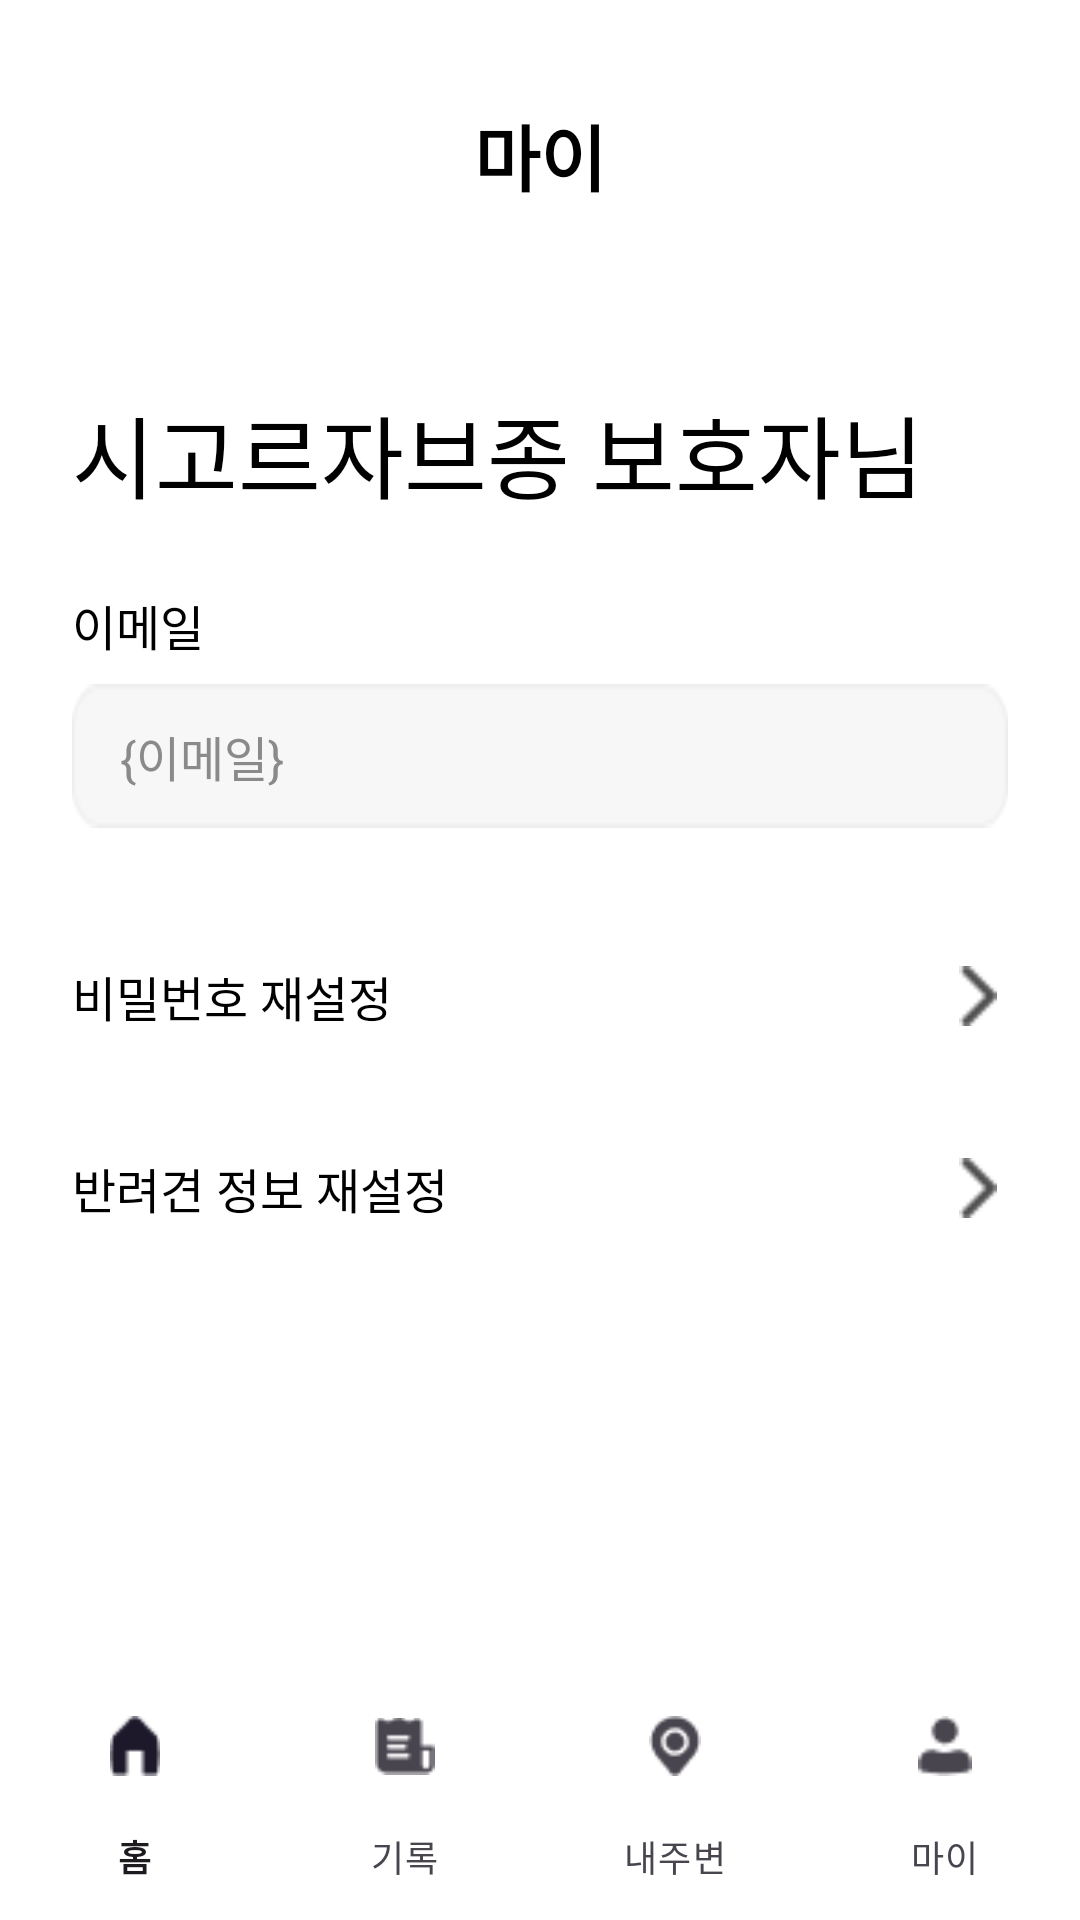

Locate icon controls on the screen. Image size 1080px×1920px, boxes as (x1, y1, x2, y2).
arrow my right: (959, 966, 997, 1026), (959, 1158, 997, 1218)
